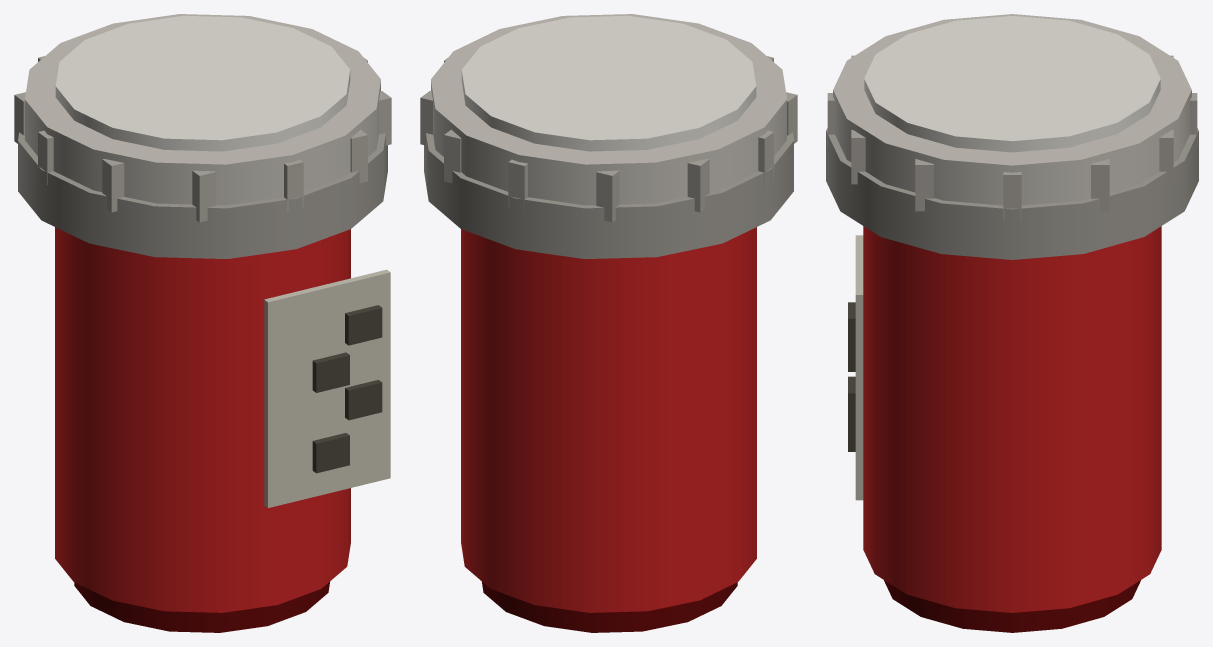
The model's file is CMU3DCMPillCanisterBicaridine.glb.
The picture shows the model from 3 angles, left to right: view 1: azimuth 30°, elevation 25°; view 2: azimuth 150°, elevation 25°; view 3: azimuth 270°, elevation 25°; orthographic projection.
Parts seen in each view (by area): view 1: colored bottle body, cap top inset, small medicine label, closed pale screw cap, cap rim, source label ink (×4), cap grip rib (×6), bottle lower bevel; view 2: colored bottle body, cap top inset, closed pale screw cap, cap rim, cap grip rib (×6), bottle lower bevel; view 3: colored bottle body, cap top inset, closed pale screw cap, cap rim, bottle lower bevel, cap grip rib (×5), small medicine label.
Part boxes in pixels (bbox=[...]): colored bottle body: bbox=[55, 227, 350, 612]; cap top inset: bbox=[55, 15, 350, 151]; small medicine label: bbox=[264, 269, 390, 507]; closed pale screw cap: bbox=[25, 14, 380, 205]; cap rim: bbox=[18, 132, 387, 258]; source label ink (×4): bbox=[312, 305, 382, 473]; cap grip rib (×6): bbox=[38, 91, 391, 222]; bottle lower bevel: bbox=[74, 581, 330, 632]; colored bottle body: bbox=[461, 227, 756, 612]; cap top inset: bbox=[461, 15, 756, 151]; closed pale screw cap: bbox=[431, 14, 786, 205]; cap rim: bbox=[424, 132, 793, 258]; cap grip rib (×6): bbox=[420, 91, 773, 222]; bottle lower bevel: bbox=[481, 581, 737, 632]; colored bottle body: bbox=[863, 226, 1161, 612]; cap top inset: bbox=[864, 16, 1160, 152]; closed pale screw cap: bbox=[833, 14, 1191, 205]; cap rim: bbox=[826, 128, 1198, 259]; bottle lower bevel: bbox=[884, 580, 1140, 632]; cap grip rib (×5): bbox=[851, 130, 1173, 221]; small medicine label: bbox=[855, 235, 863, 500].
Bounding box in the file's own units: 0.24 × 0.355 × 0.24.
